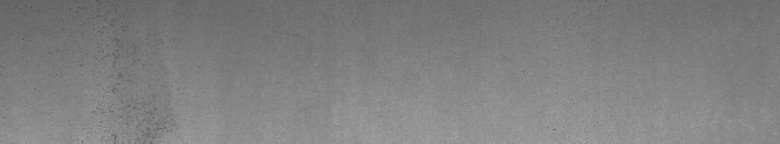ib: (92, 50, 163, 136)
